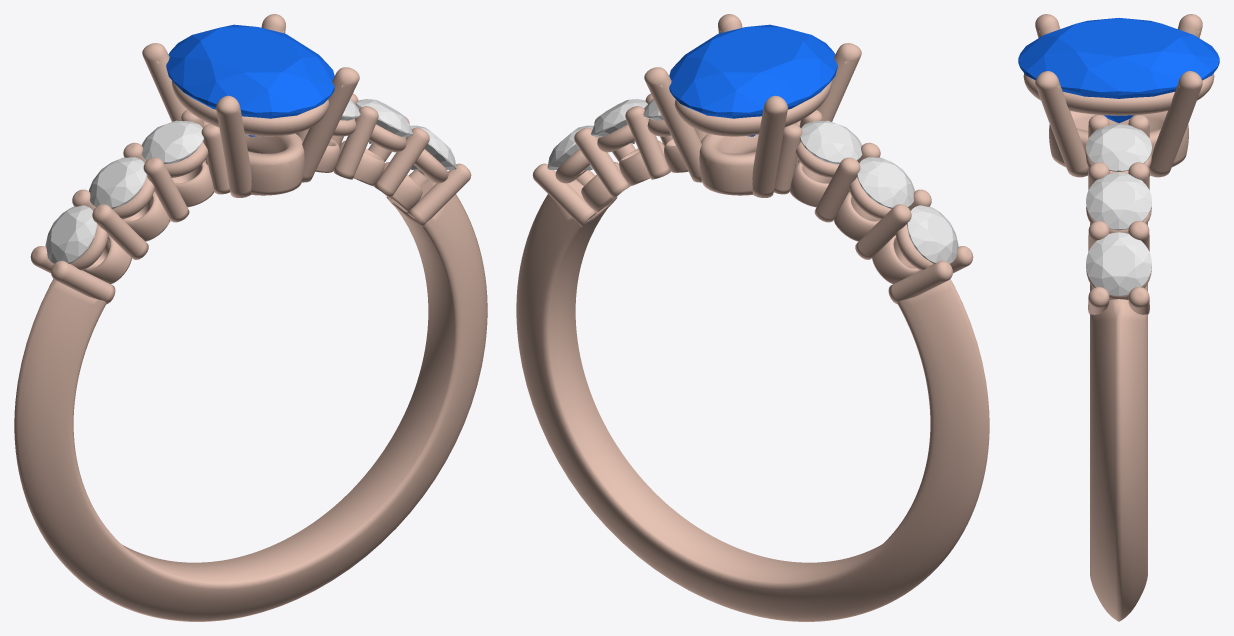
The model's file is bluesapphire-oval-rosegold-4prong-knifeedge-7stone.glb.
3 renders of one model, left to right at view 1: azimuth 30°, elevation 25°; view 2: azimuth 150°, elevation 25°; view 3: azimuth 270°, elevation 25°, orthographic.
Visible parts, largest first — view 1: metal, stone, side, side.001, side.002, side.004, side.003; view 2: metal, stone, side, side.001, side.002, side.004, side.003; view 3: metal, stone, side.003, side.004, side.005.
Part boxes in pixels (box(x1,y1,x2,y2)): metal: box(14, 14, 487, 621); stone: box(166, 24, 334, 136); side: box(45, 205, 97, 263); side.001: box(89, 157, 147, 208); side.002: box(141, 120, 204, 164); side.004: box(356, 99, 412, 143); side.003: box(410, 125, 456, 170); metal: box(516, 14, 989, 621); stone: box(669, 24, 837, 136); side: box(906, 205, 958, 263); side.001: box(856, 157, 914, 208); side.002: box(799, 120, 862, 164); side.004: box(591, 99, 647, 143); side.003: box(547, 125, 593, 170); metal: box(1023, 14, 1214, 621); stone: box(1018, 18, 1219, 123); side.003: box(1086, 232, 1151, 295); side.004: box(1086, 172, 1151, 230); side.005: box(1086, 124, 1151, 171).
Size of the model in its own units: 20.5 by 23.4 by 7.64.
